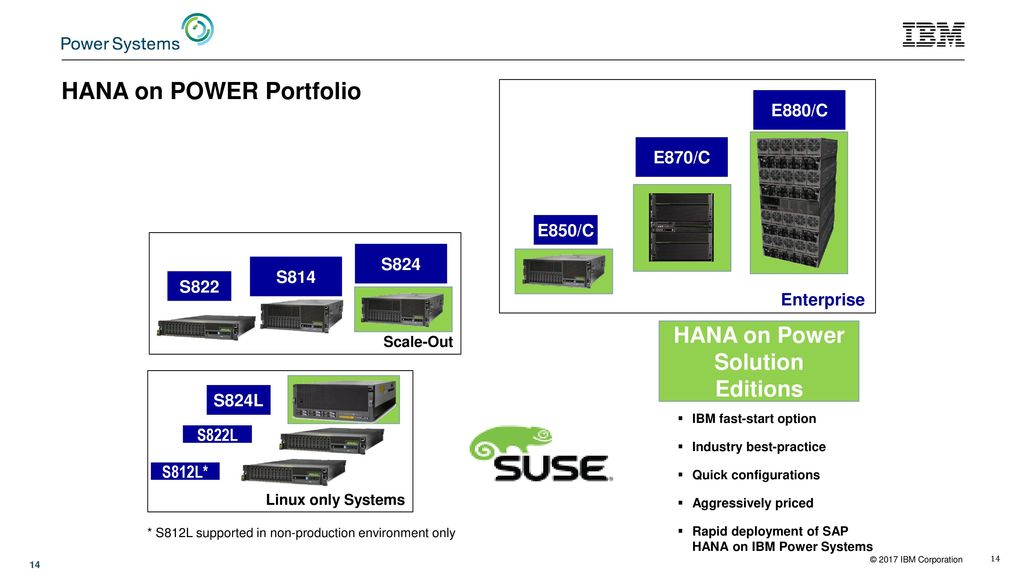ibm-server: (755, 133, 837, 265), (230, 453, 351, 490), (518, 247, 615, 293), (267, 421, 389, 456), (153, 307, 260, 342), (252, 297, 345, 333)
